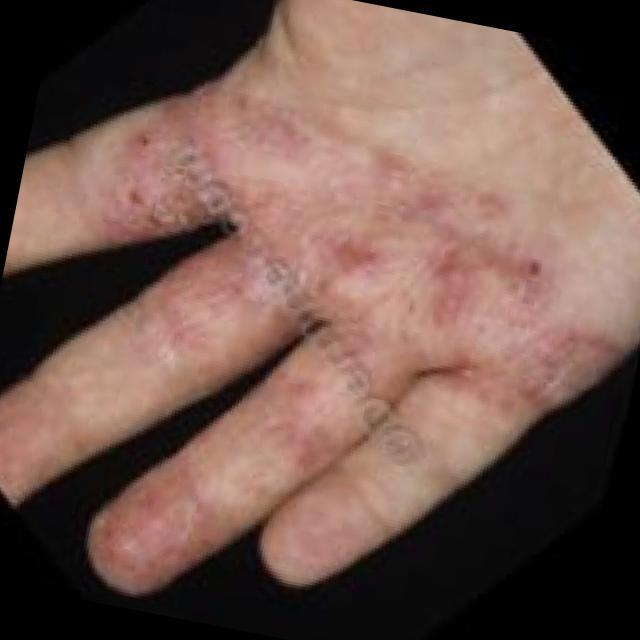Eczema: (55, 92, 611, 578)
